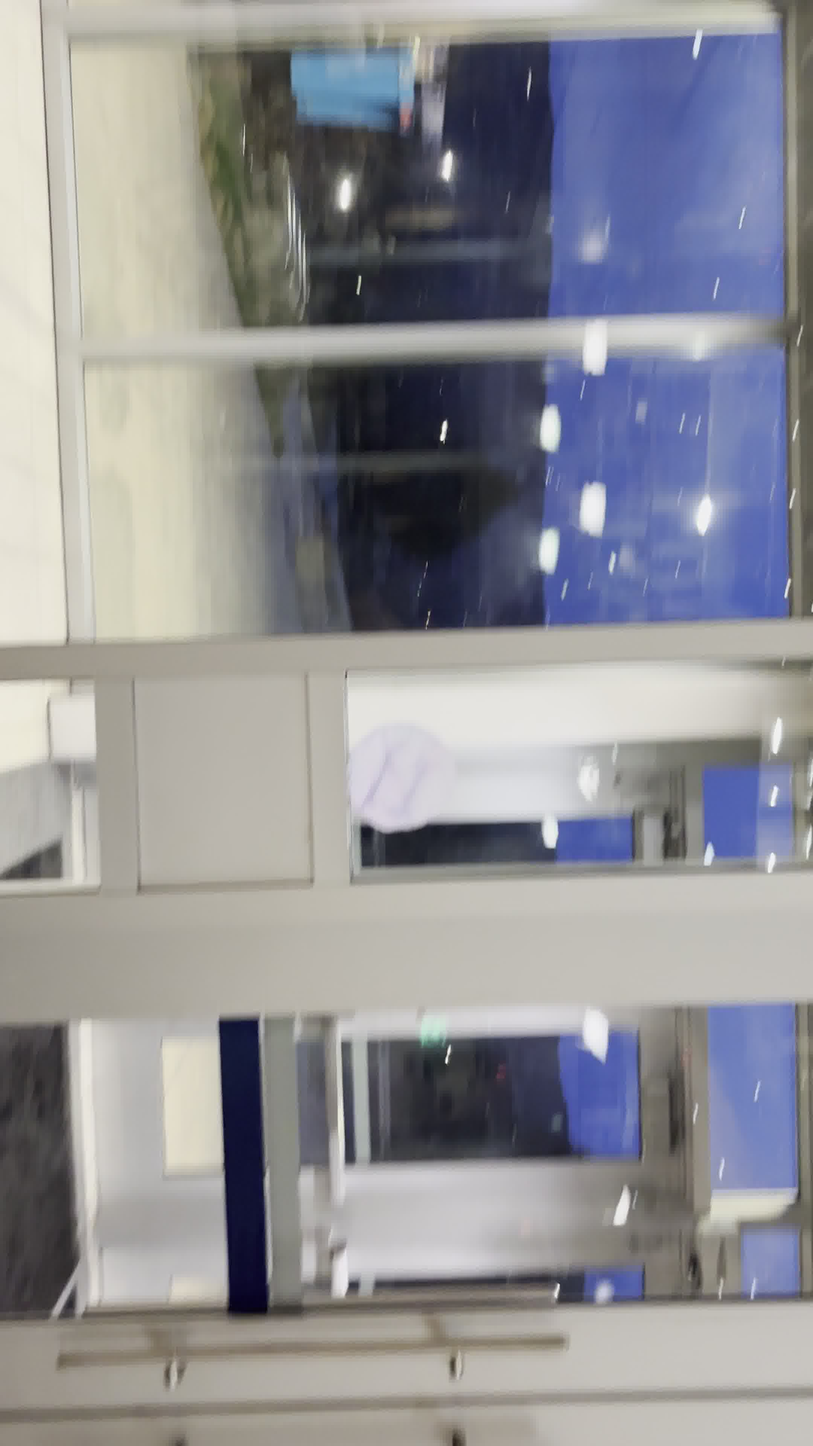Target: (343, 720, 461, 835)
